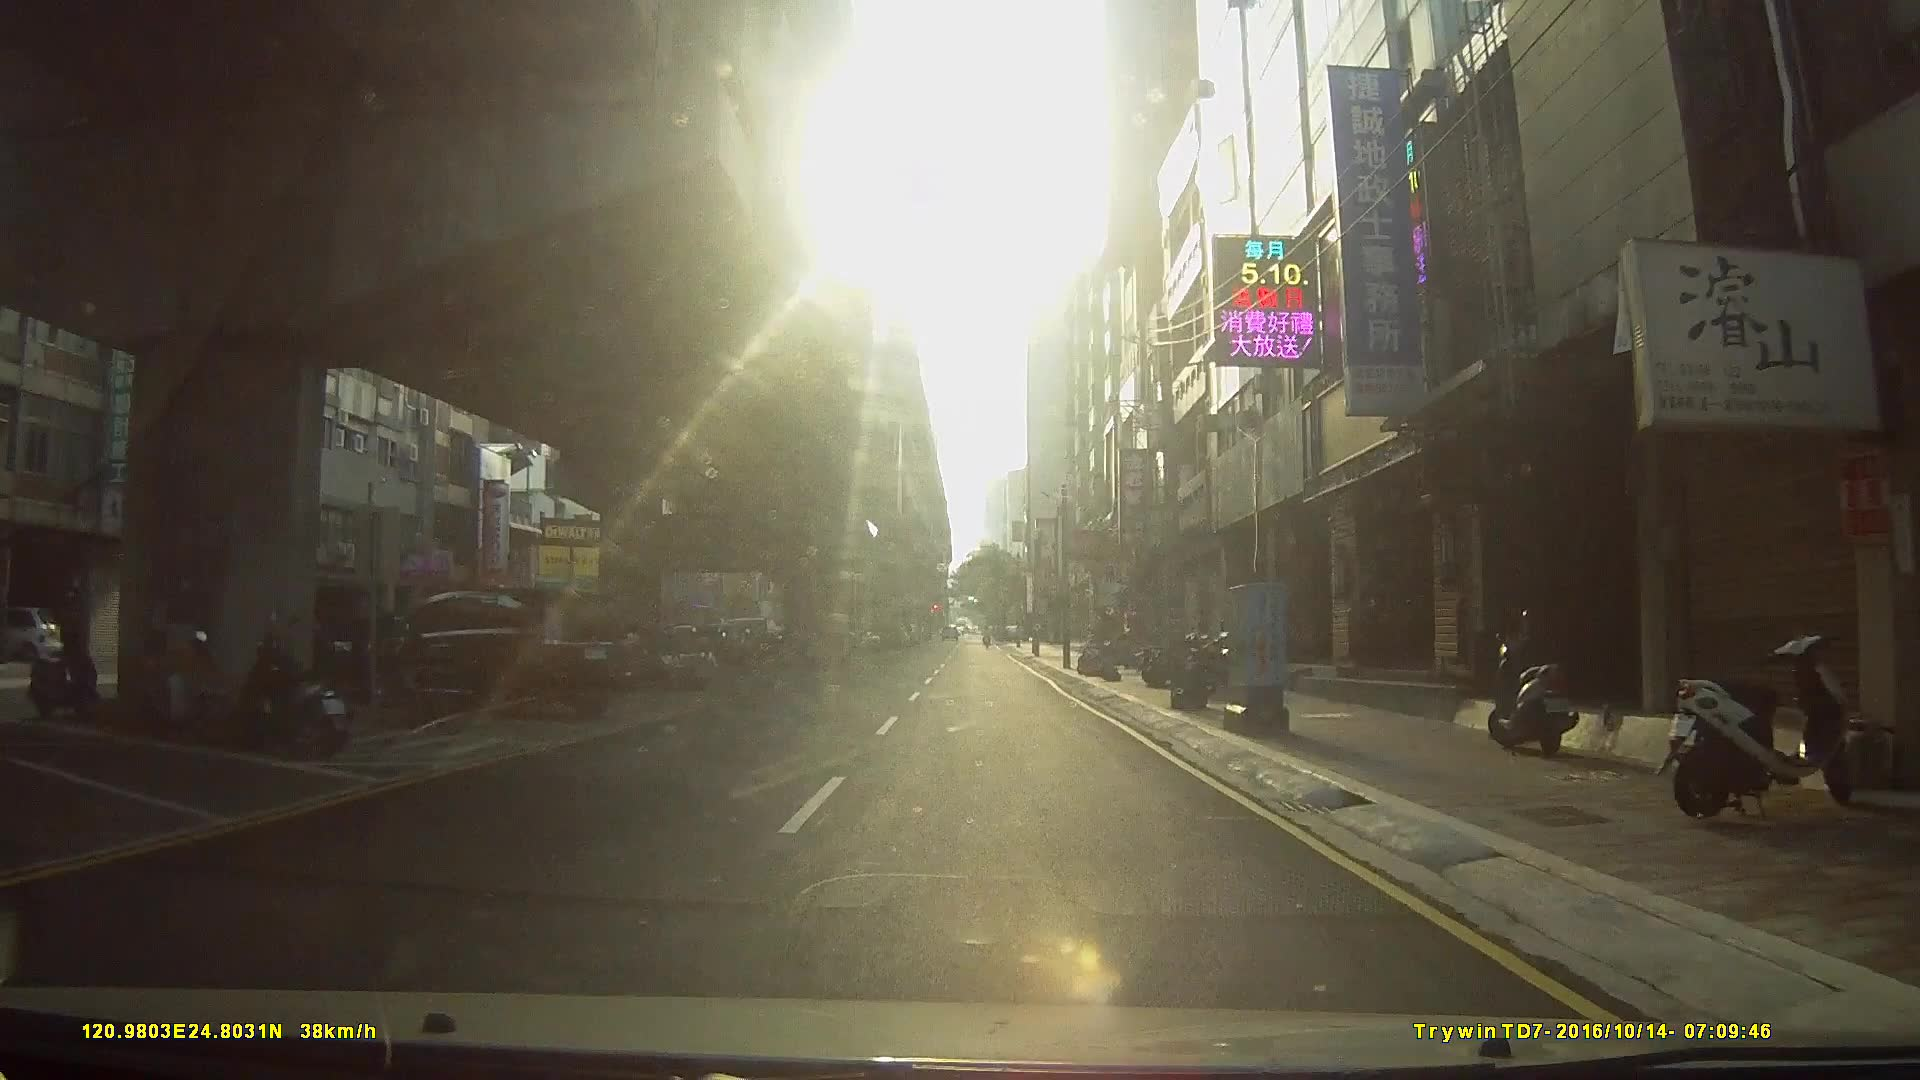vehicle: (357, 584, 634, 717), (232, 580, 394, 695), (588, 618, 713, 688), (0, 605, 65, 663)
